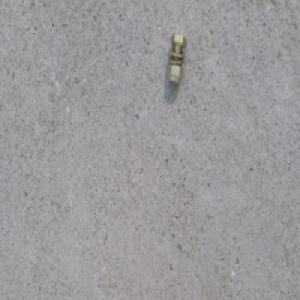BoltNutSet: (164, 34, 187, 84)
